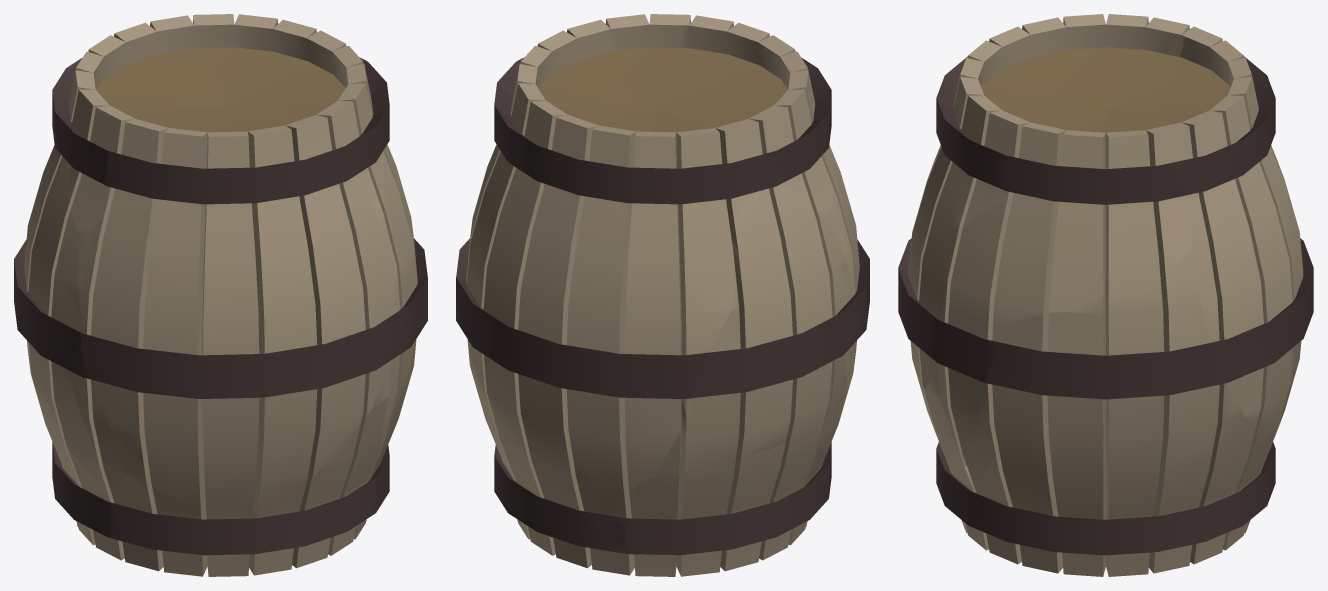
Rendered from Barrel.fbx.
The picture shows the model from 3 angles, left to right: view 1: azimuth 30°, elevation 25°; view 2: azimuth 150°, elevation 25°; view 3: azimuth 270°, elevation 25°; orthographic projection.
Visible parts, largest first — view 1: pTorus13405_pl_chunk11, pTorus13405_pl_chunk17, pTorus13405_pl_chunk12, pTorus13405_pl_chunk14, pTorus13405_pl_chunk10, pTorus13405_pl_chunk16, pTorus13405_pl_chunk18, pTorus13405_pl_chunk15, pTorus13405_pl_chunk13; view 2: pTorus13405_pl_chunk10, pTorus13405_pl_chunk17, pTorus13405_pl_chunk16, pTorus13405_pl_chunk14, pTorus13405_pl_chunk13, pTorus13405_pl_chunk11, pTorus13405_pl_chunk15, pTorus13405_pl_chunk12; view 3: pTorus13405_pl_chunk13, pTorus13405_pl_chunk17, pTorus13405_pl_chunk10, pTorus13405_pl_chunk14, pTorus13405_pl_chunk11, pTorus13405_pl_chunk18, pTorus13405_pl_chunk12, pTorus13405_pl_chunk15.
Boxes of the visible parts, left/top/right/bottom form: pTorus13405_pl_chunk11: left=77, top=110, right=406, bottom=511; pTorus13405_pl_chunk17: left=14, top=27, right=416, bottom=546; pTorus13405_pl_chunk12: left=63, top=343, right=388, bottom=576; pTorus13405_pl_chunk14: left=54, top=77, right=386, bottom=259; pTorus13405_pl_chunk10: left=23, top=14, right=267, bottom=246; pTorus13405_pl_chunk16: left=38, top=398, right=133, bottom=563; pTorus13405_pl_chunk18: left=367, top=266, right=427, bottom=501; pTorus13405_pl_chunk15: left=164, top=17, right=309, bottom=80; pTorus13405_pl_chunk13: left=355, top=238, right=426, bottom=537; pTorus13405_pl_chunk10: left=456, top=87, right=752, bottom=477; pTorus13405_pl_chunk17: left=480, top=21, right=866, bottom=543; pTorus13405_pl_chunk16: left=604, top=434, right=829, bottom=576; pTorus13405_pl_chunk14: left=596, top=14, right=839, bottom=229; pTorus13405_pl_chunk13: left=456, top=186, right=616, bottom=573; pTorus13405_pl_chunk11: left=674, top=14, right=869, bottom=363; pTorus13405_pl_chunk15: left=494, top=67, right=601, bottom=125; pTorus13405_pl_chunk12: left=822, top=296, right=866, bottom=496; pTorus13405_pl_chunk13: left=973, top=256, right=1289, bottom=576; pTorus13405_pl_chunk17: left=942, top=21, right=1198, bottom=553; pTorus13405_pl_chunk10: left=1176, top=26, right=1313, bottom=423; pTorus13405_pl_chunk14: left=953, top=14, right=1172, bottom=233; pTorus13405_pl_chunk11: left=898, top=19, right=1047, bottom=411; pTorus13405_pl_chunk18: left=928, top=305, right=998, bottom=517; pTorus13405_pl_chunk12: left=924, top=364, right=979, bottom=544; pTorus13405_pl_chunk15: left=1159, top=97, right=1207, bottom=194.
Bounding box in the file's own units: 12.64 × 14.75 × 12.64.
